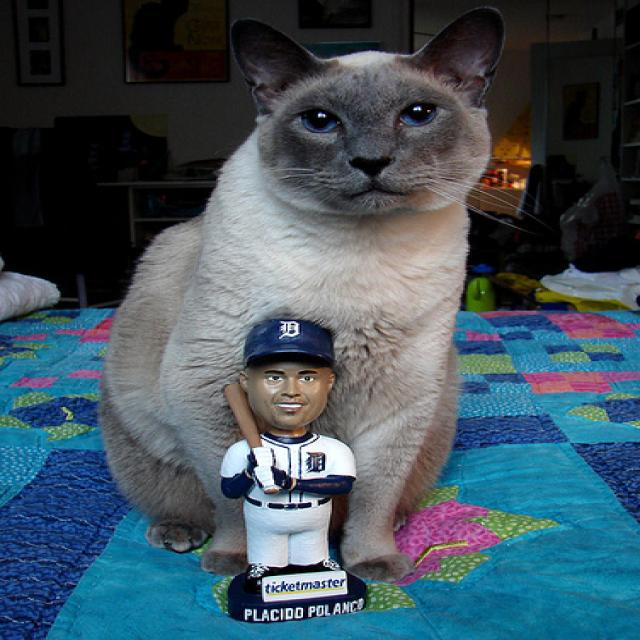cat: (97, 8, 531, 584)
